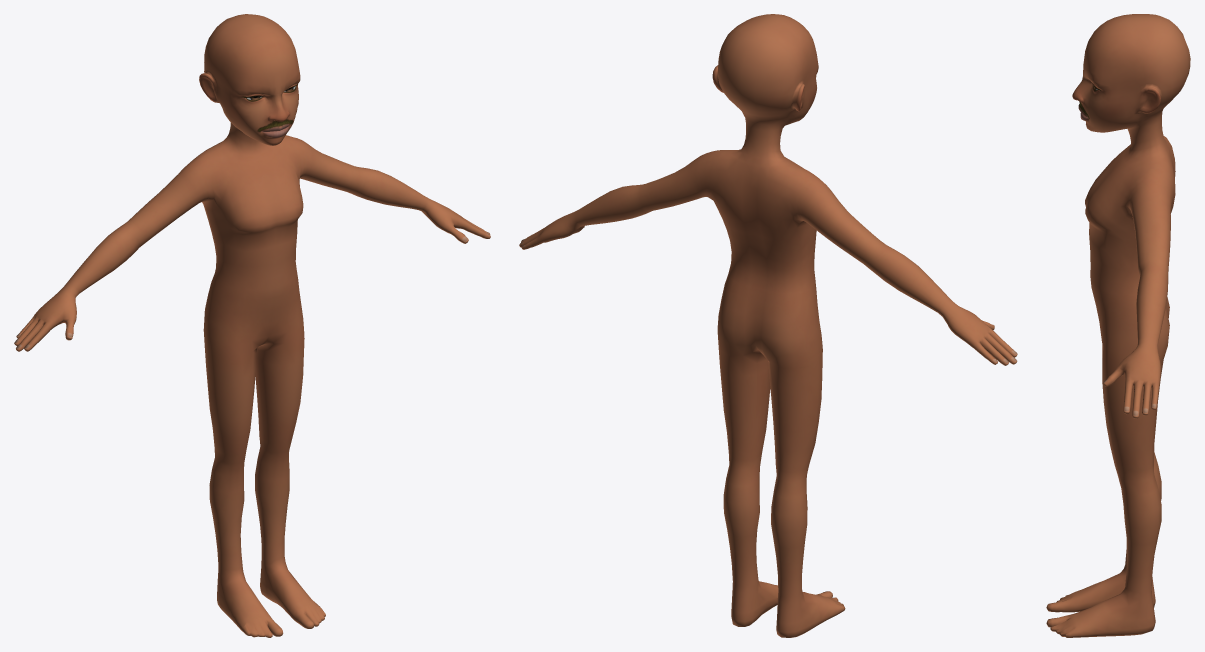
File: frame_0049.glb
3 renders of one model, left to right at view 1: azimuth 30°, elevation 25°; view 2: azimuth 150°, elevation 25°; view 3: azimuth 270°, elevation 25°, orthographic. The views are drawn at different scales.
Parts seen in each view (by area): view 1: frame_0049_head_geo; view 2: frame_0049_head_geo; view 3: frame_0049_head_geo.
Part boxes in pixels (<box>): frame_0049_head_geo: <box>14,14,490,637</box>; frame_0049_head_geo: <box>519,14,1017,637</box>; frame_0049_head_geo: <box>1046,14,1190,637</box>.
Bounding box in the file's own units: 1.28 × 1.5 × 0.3253.
3 materials, 3 textured.
